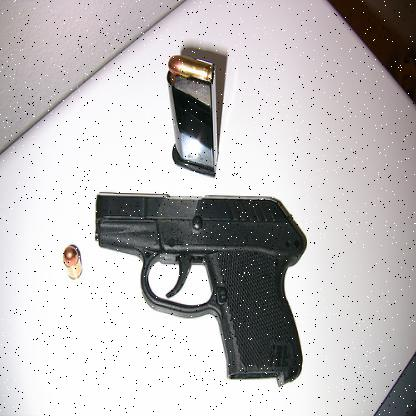pistol: (96, 191, 307, 386)
